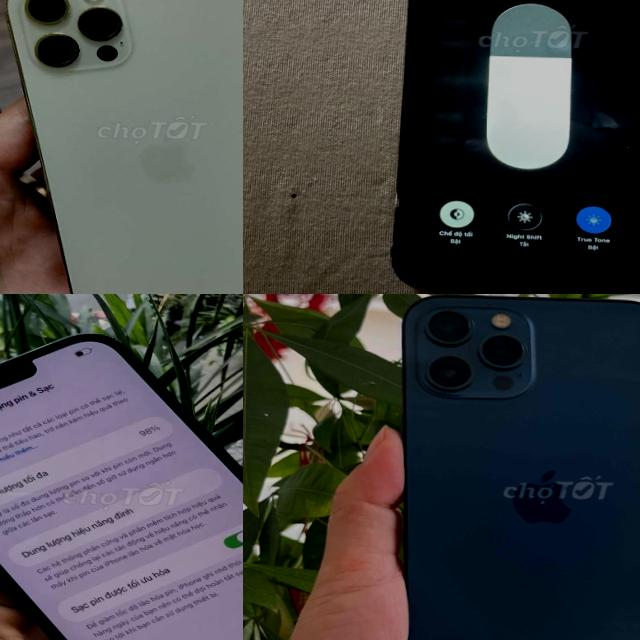gen_12_13: (385, 294, 640, 640), (377, 0, 640, 294), (0, 0, 243, 294)
gen_14: (0, 325, 243, 640)
